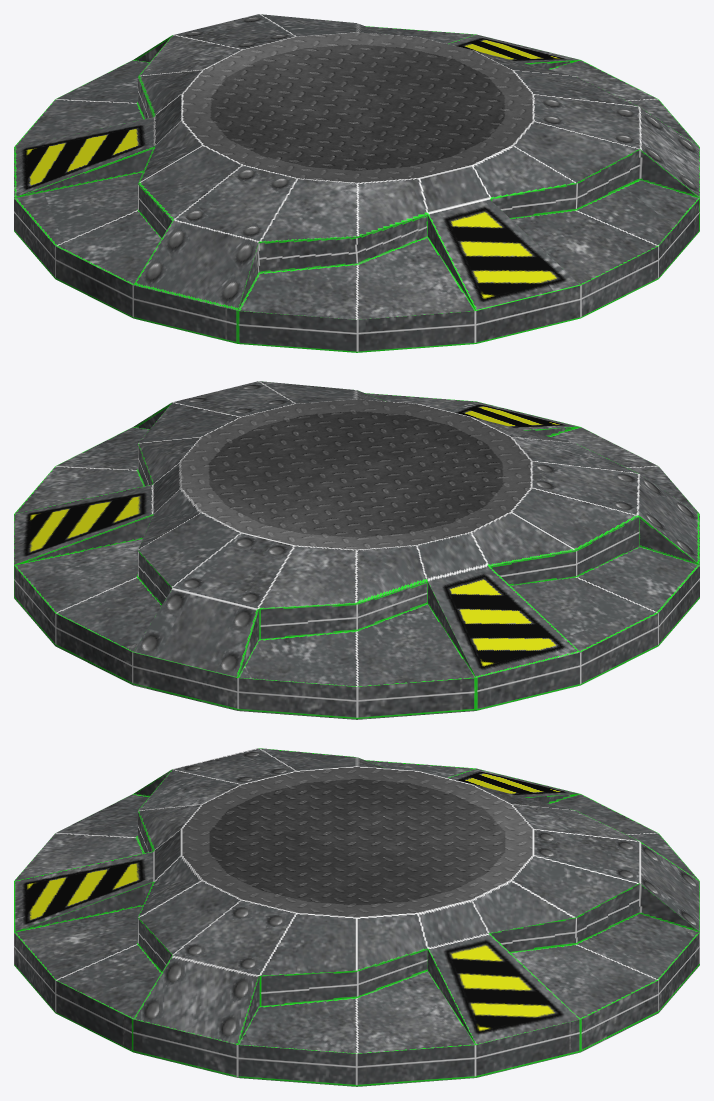
File: TeleporterPad.FBX
3 renders of one model, top to bottom at view 1: azimuth 30°, elevation 25°; view 2: azimuth 150°, elevation 25°; view 3: azimuth 270°, elevation 25°, orthographic.
Visible parts, largest first — view 1: CheckpointPad; view 2: CheckpointPad; view 3: CheckpointPad.
Boxes of the visible parts, x1=… form: CheckpointPad: x1=14, y1=14, x2=699, y2=352; CheckpointPad: x1=14, y1=381, x2=699, y2=719; CheckpointPad: x1=14, y1=748, x2=699, y2=1086.
Size of the model in its own units: 59.56 by 9.24 by 58.65.
1 material, 1 textured.
